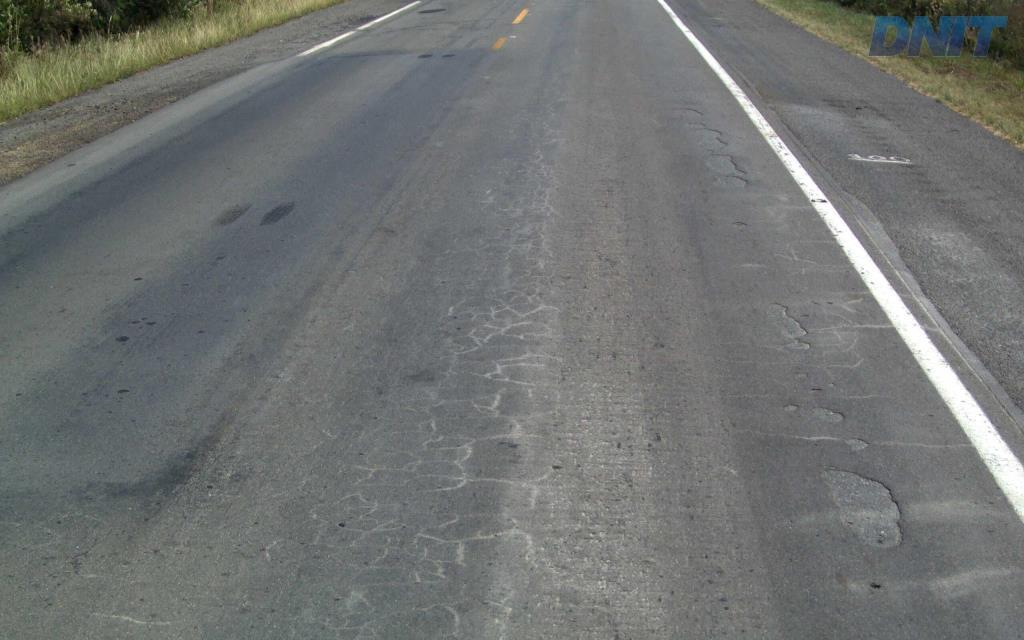pothole: (810, 462, 913, 555), (762, 289, 818, 356), (683, 119, 732, 150), (698, 151, 748, 177), (812, 403, 847, 427), (839, 432, 869, 454), (777, 400, 802, 417), (724, 217, 754, 231)
